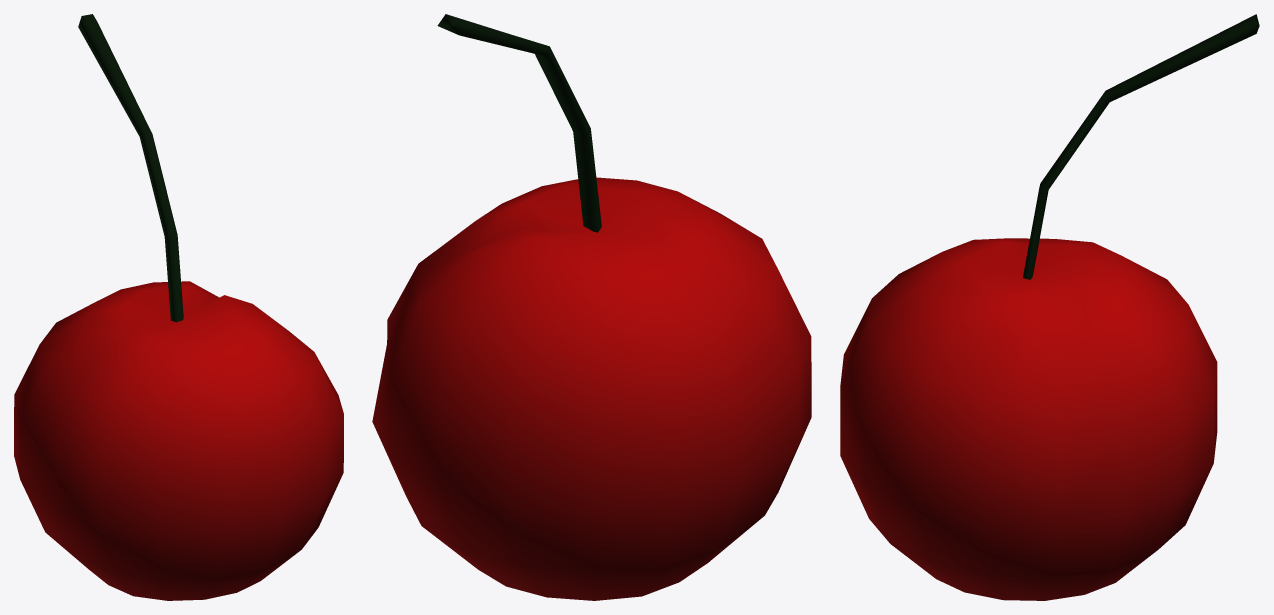
The model's file is Cherry.fbx.
3 renders of one model, left to right at view 1: azimuth 30°, elevation 25°; view 2: azimuth 150°, elevation 25°; view 3: azimuth 270°, elevation 25°, orthographic. The views are drawn at different scales.
Parts seen in each view (by area): view 1: Body, Leaf; view 2: Body, Leaf; view 3: Body, Leaf.
Boxes of the visible parts, x1,y1,x2,y2 form: Body: (14,281,343,600); Leaf: (78,14,183,322); Body: (372,177,811,600); Leaf: (437,14,601,232); Body: (840,238,1217,600); Leaf: (1023,14,1259,279).
Bounding box in the file's own units: 0.4138 × 0.6908 × 0.4653.
